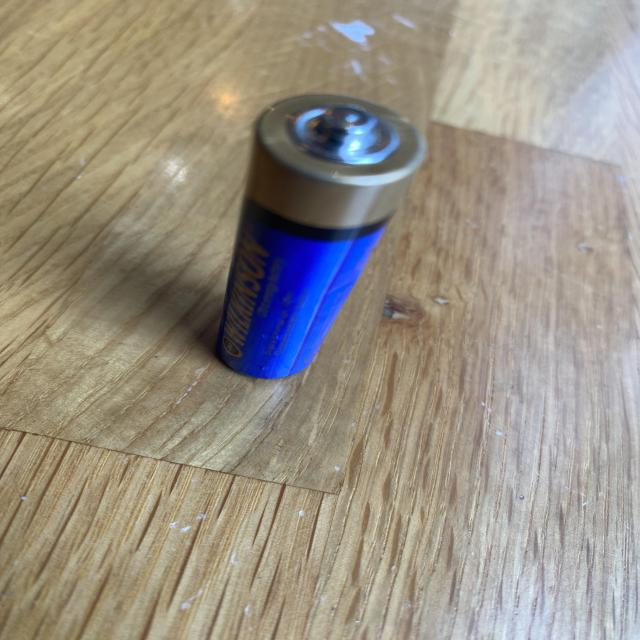AA: (212, 88, 433, 384)
